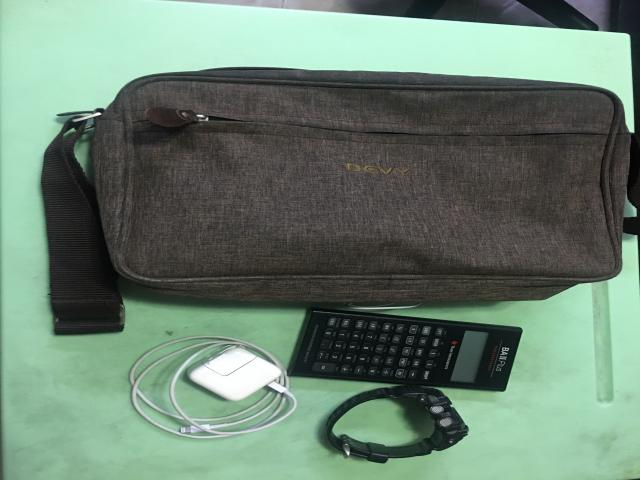Watch: (327, 385, 468, 463)
wire: (128, 336, 297, 439)
